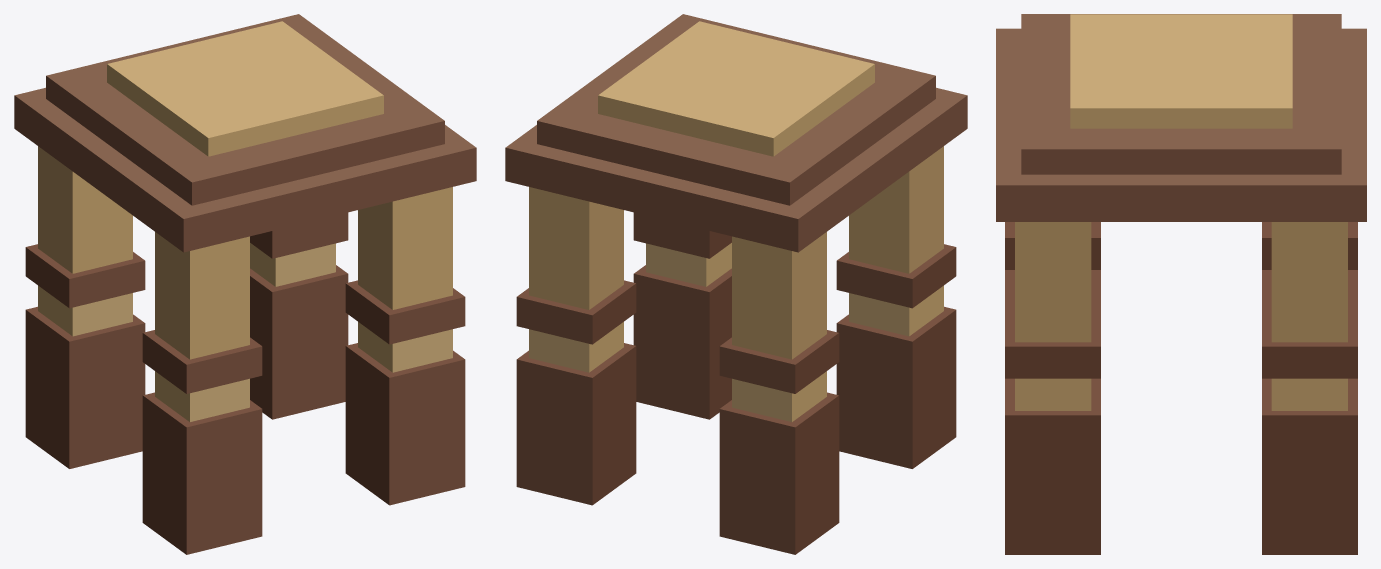
Rendered from ST_Env_Structure_01.fbx.
3 views of the same model, side by side, from view 1: azimuth 30°, elevation 25°; view 2: azimuth 150°, elevation 25°; view 3: azimuth 270°, elevation 25° (orthographic). The views are drawn at different scales.
Visible parts, largest first — view 1: ST_Env_Structure_01; view 2: ST_Env_Structure_01; view 3: ST_Env_Structure_01.
Part boxes in pixels (bbox=[...]): ST_Env_Structure_01: bbox=[14, 14, 476, 554]; ST_Env_Structure_01: bbox=[505, 14, 967, 554]; ST_Env_Structure_01: bbox=[996, 14, 1366, 554].
Bounding box in the file's own units: 5.11 × 6.37 × 5.11.
